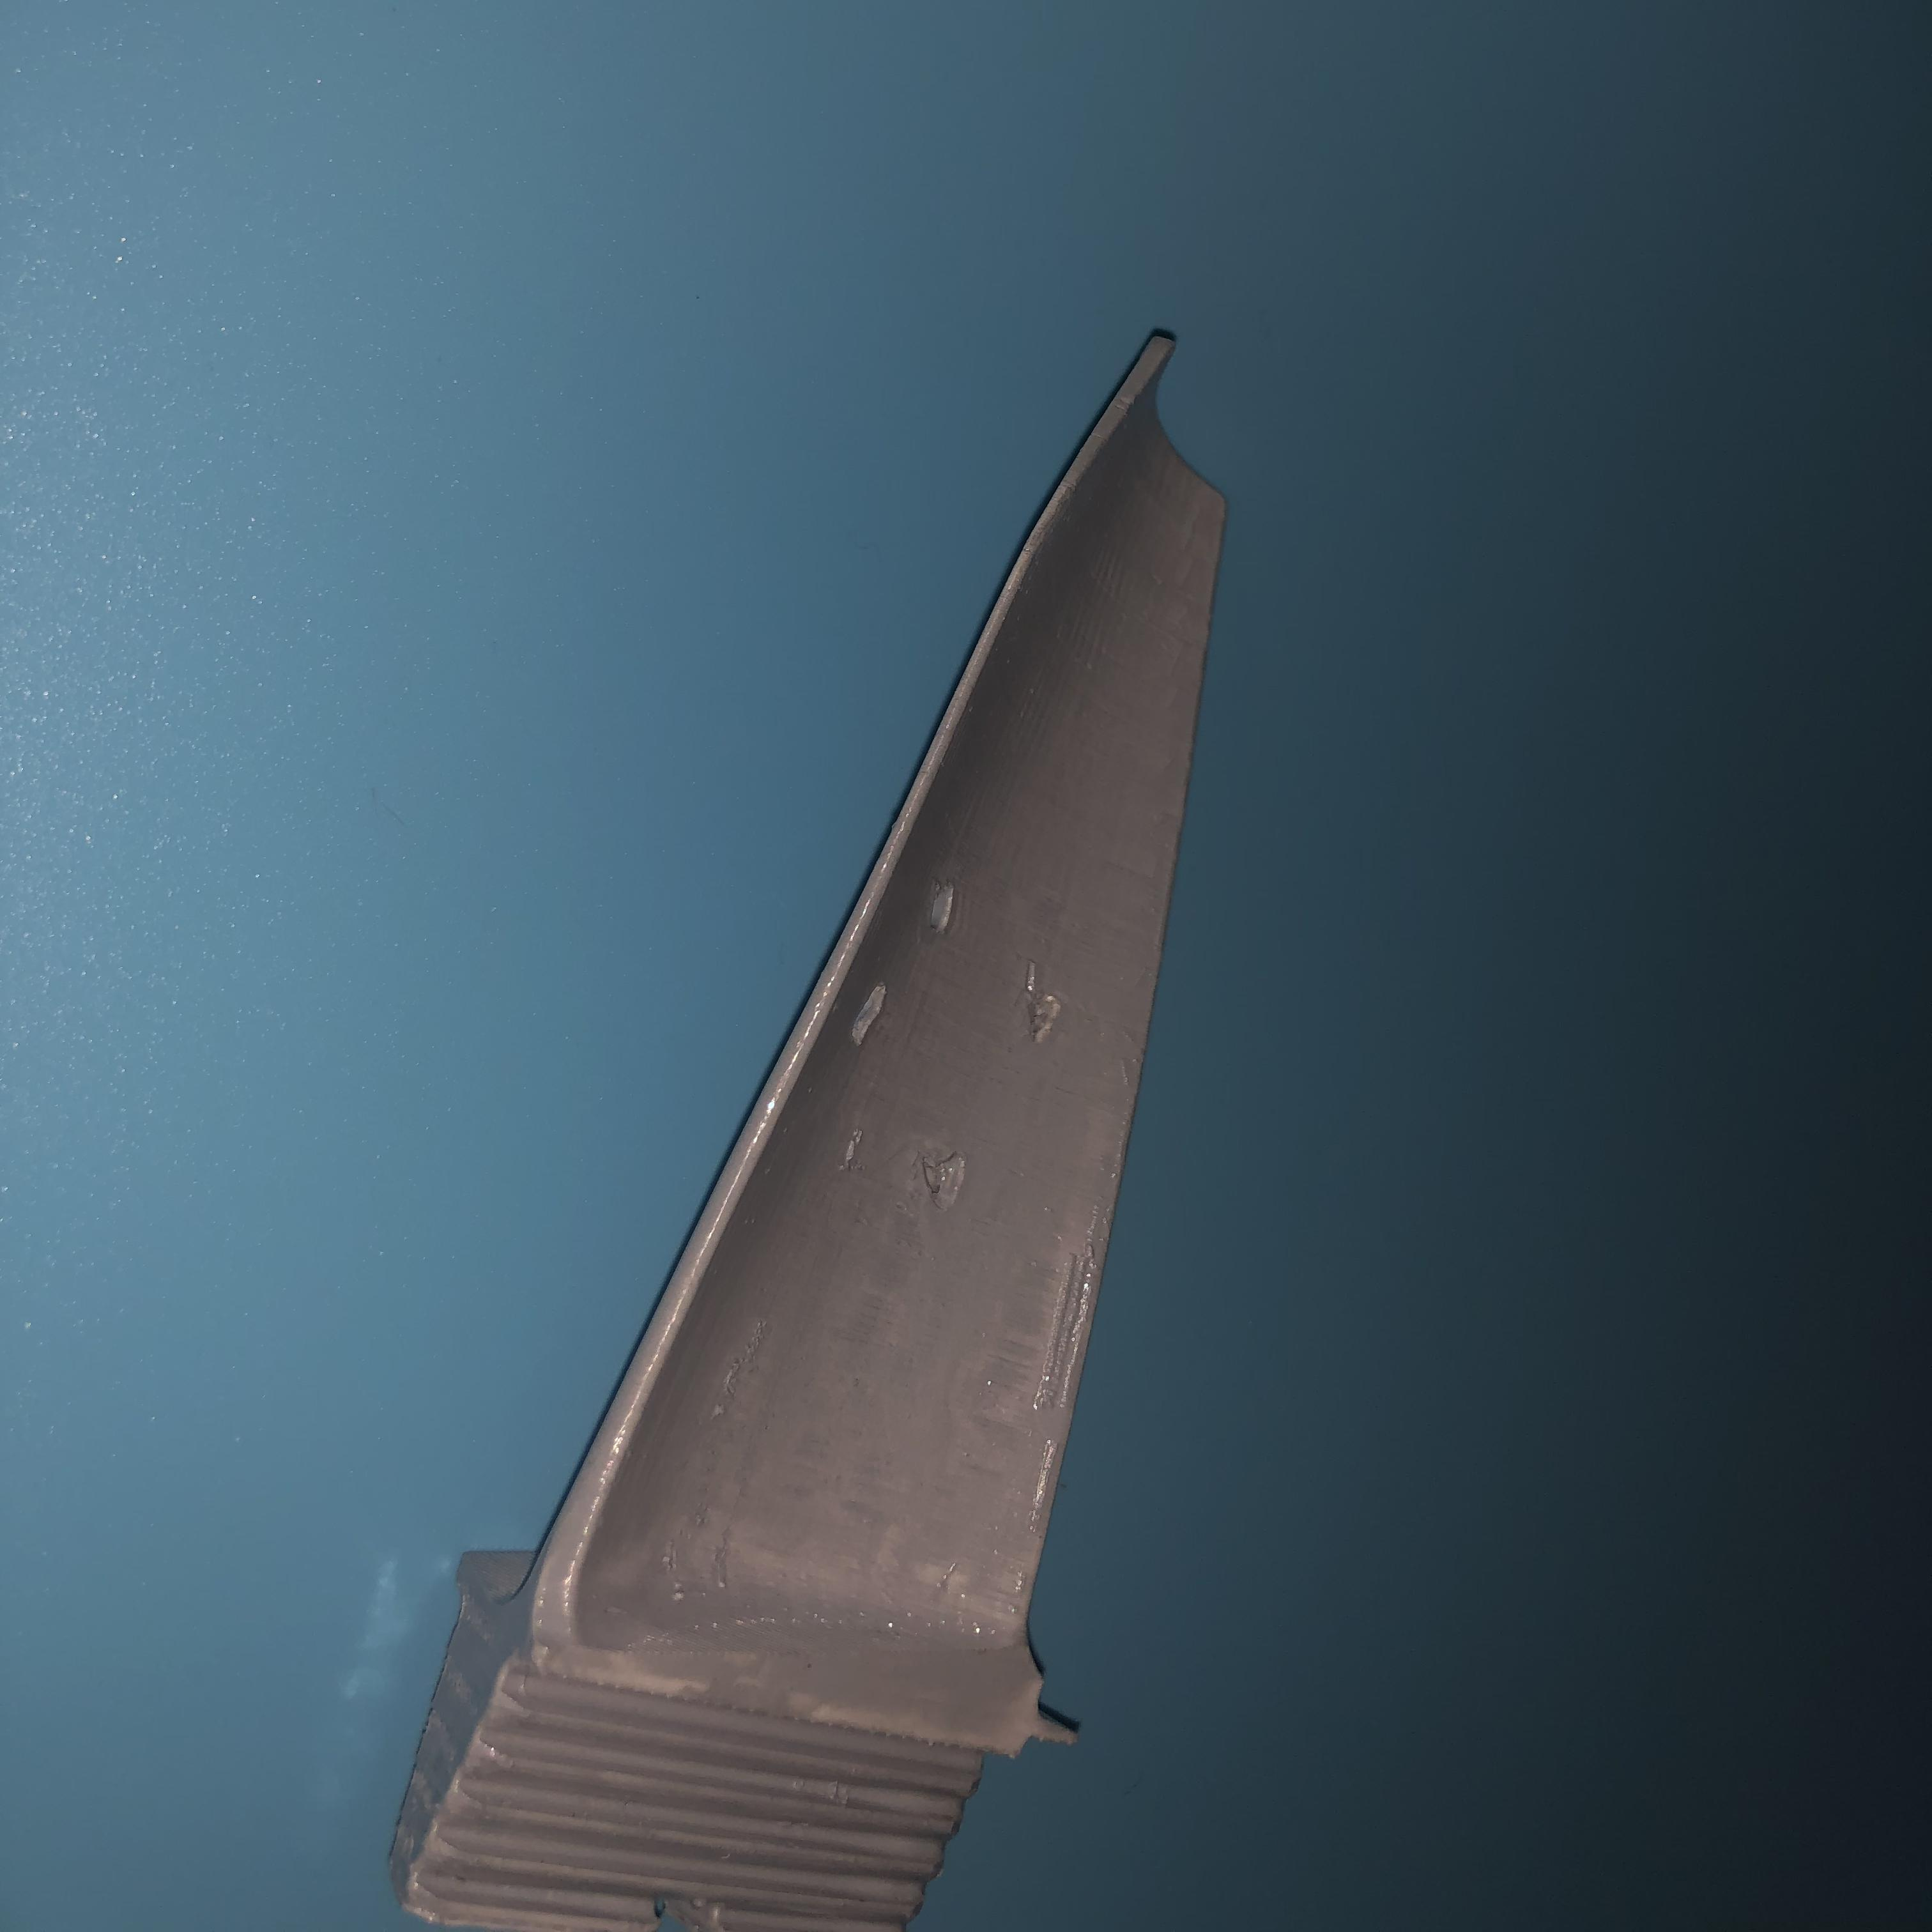breakdown: (853, 893, 1079, 1214)
